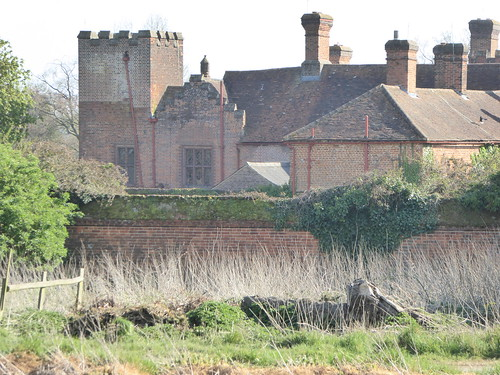building: (76, 29, 500, 181)
grass: (3, 270, 500, 375)
sky: (10, 1, 500, 46)
vegetation: (1, 45, 80, 260)
